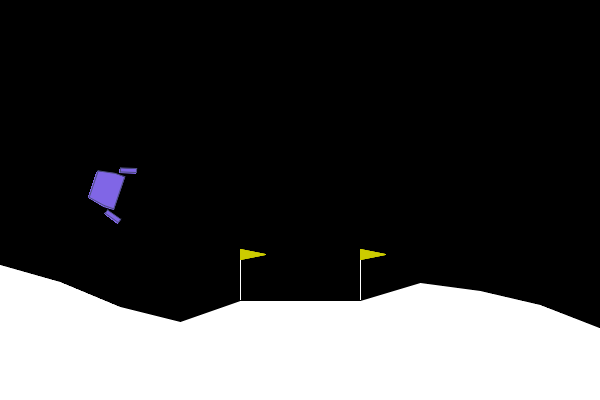lander: (82, 155, 139, 225)
